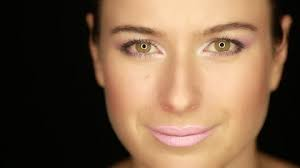white_female: (88, 8, 278, 168)
